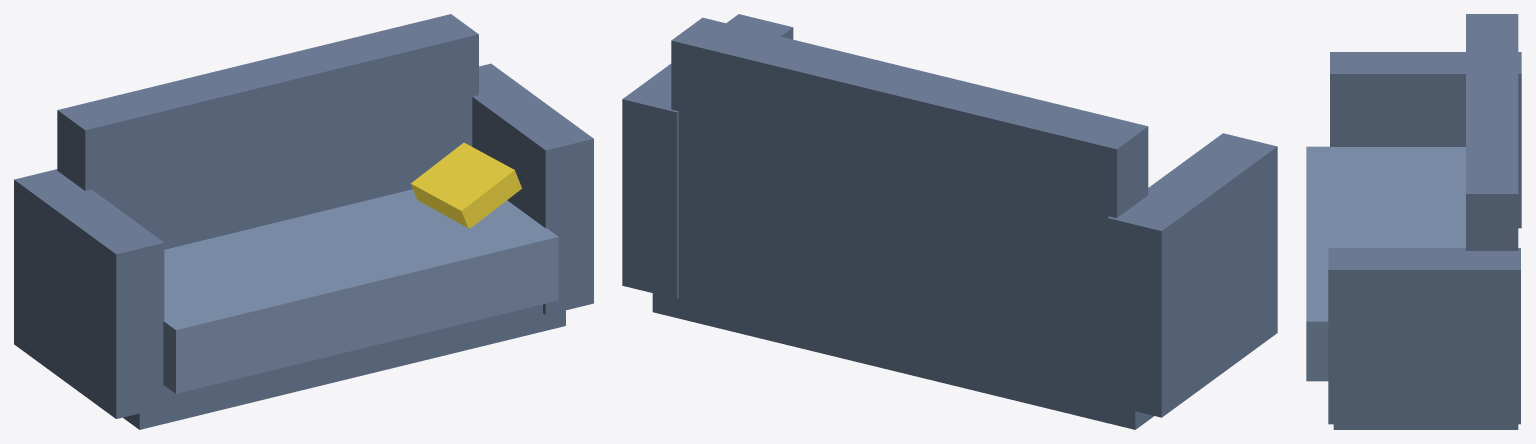
Rendered from 10_sofa.glb.
3 views of the same model, side by side, from view 1: azimuth 30°, elevation 25°; view 2: azimuth 150°, elevation 25°; view 3: azimuth 270°, elevation 25° (orthographic). The views are drawn at different scales.
Parts seen in each view (by area): view 1: part_3, part_2, part_4, part_5, part_1, part_6; view 2: part_3, part_4, part_1, part_5; view 3: part_5, part_2, part_4, part_3, part_1.
Part boxes in pixels (x1,y1,x2,y2): part_3: (57,14,478,249); part_2: (163,189,558,393); part_4: (14,169,164,418); part_5: (472,63,593,314); part_1: (123,304,565,429); part_6: (410,142,521,228); part_3: (671,17,1148,353); part_4: (1107,133,1277,417); part_1: (652,250,1153,429); part_5: (622,14,793,298); part_5: (1328,248,1520,424); part_2: (1306,146,1465,381); part_4: (1330,52,1521,228); part_3: (1466,14,1518,250); part_1: (1333,424,1518,429).
Size of the model in its own units: 2.94 by 1.44 by 1.23.
